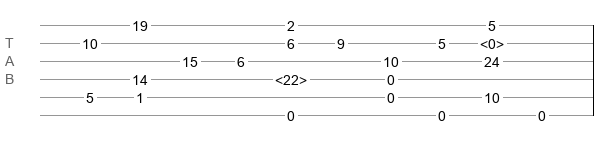0: (287, 108, 295, 118), (387, 90, 395, 100), (387, 72, 395, 82), (438, 108, 446, 118), (538, 108, 546, 118)
1: (136, 90, 144, 100)
10: (82, 36, 98, 46), (383, 54, 399, 64), (484, 90, 500, 100)
14: (132, 72, 148, 82)
15: (182, 54, 198, 64)
19: (132, 18, 148, 28)
2: (287, 18, 295, 28)
24: (484, 54, 500, 64)
5: (86, 90, 94, 100), (438, 36, 446, 46), (488, 18, 496, 28)
6: (237, 54, 245, 64), (287, 36, 295, 46)
9: (337, 36, 345, 46)
harmonic: (275, 72, 307, 82), (480, 36, 504, 46)
